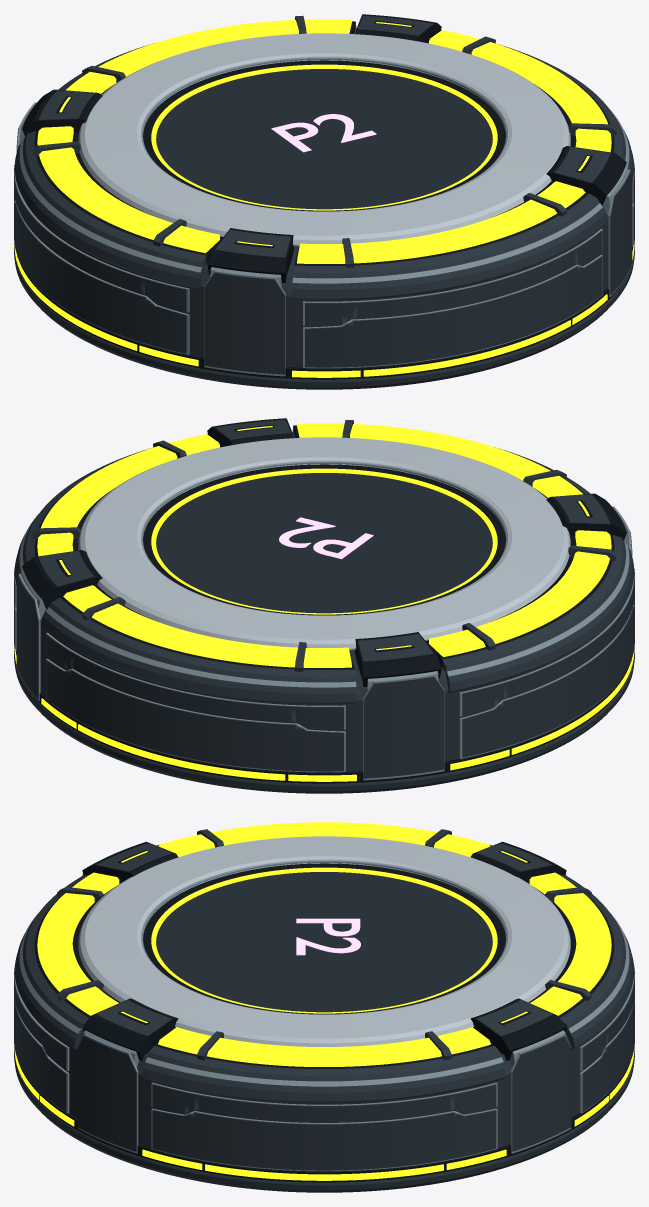
Rendered from Grippy.fbx.
3 renders of one model, top to bottom at view 1: azimuth 30°, elevation 25°; view 2: azimuth 150°, elevation 25°; view 3: azimuth 270°, elevation 25°, orthographic.
Parts seen in each view (by area): view 1: SM_Puck_Grippy_P2_HighDetail; view 2: SM_Puck_Grippy_P2_HighDetail; view 3: SM_Puck_Grippy_P2_HighDetail.
Part boxes in pixels (<box>): SM_Puck_Grippy_P2_HighDetail: <box>14,14,634,389</box>; SM_Puck_Grippy_P2_HighDetail: <box>14,418,634,793</box>; SM_Puck_Grippy_P2_HighDetail: <box>14,822,634,1192</box>.
Size of the model in its own units: 90.3 by 90.3 by 20.9.
